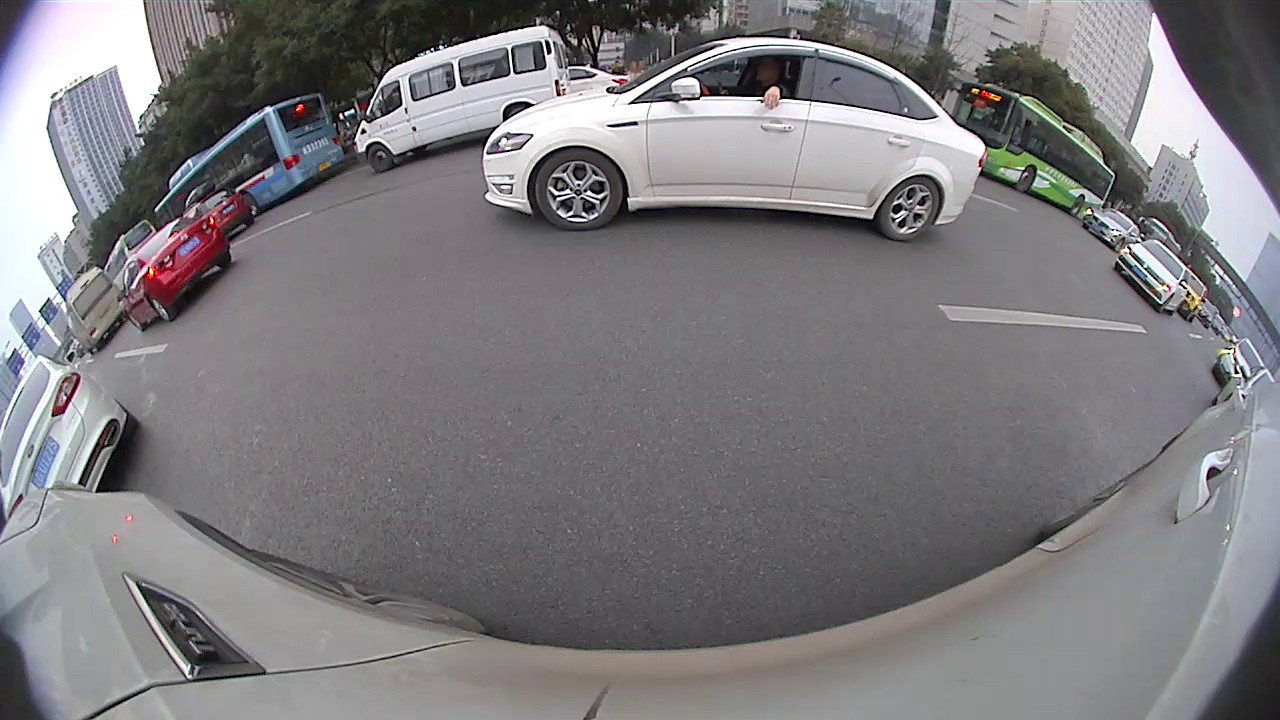bus: (153, 94, 347, 218), (950, 88, 1115, 213), (60, 268, 128, 353)
car: (482, 43, 989, 241), (357, 26, 562, 172), (3, 361, 138, 523), (119, 219, 231, 330), (1114, 240, 1190, 313), (197, 190, 255, 235)
front: (536, 146, 623, 231), (368, 144, 396, 173), (1016, 164, 1038, 194), (1114, 237, 1126, 254)
rear: (879, 173, 944, 242), (147, 293, 174, 324), (1068, 193, 1086, 215)
